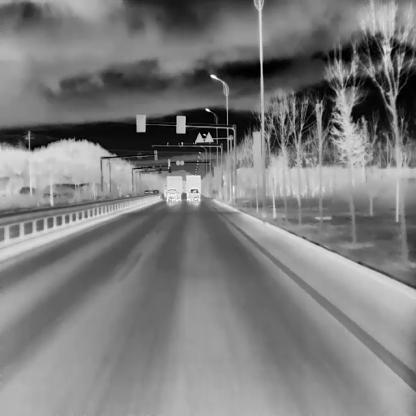car: (166, 175, 181, 200), (186, 175, 200, 200), (165, 189, 178, 202), (187, 189, 200, 202), (150, 189, 159, 194), (143, 189, 150, 194)
